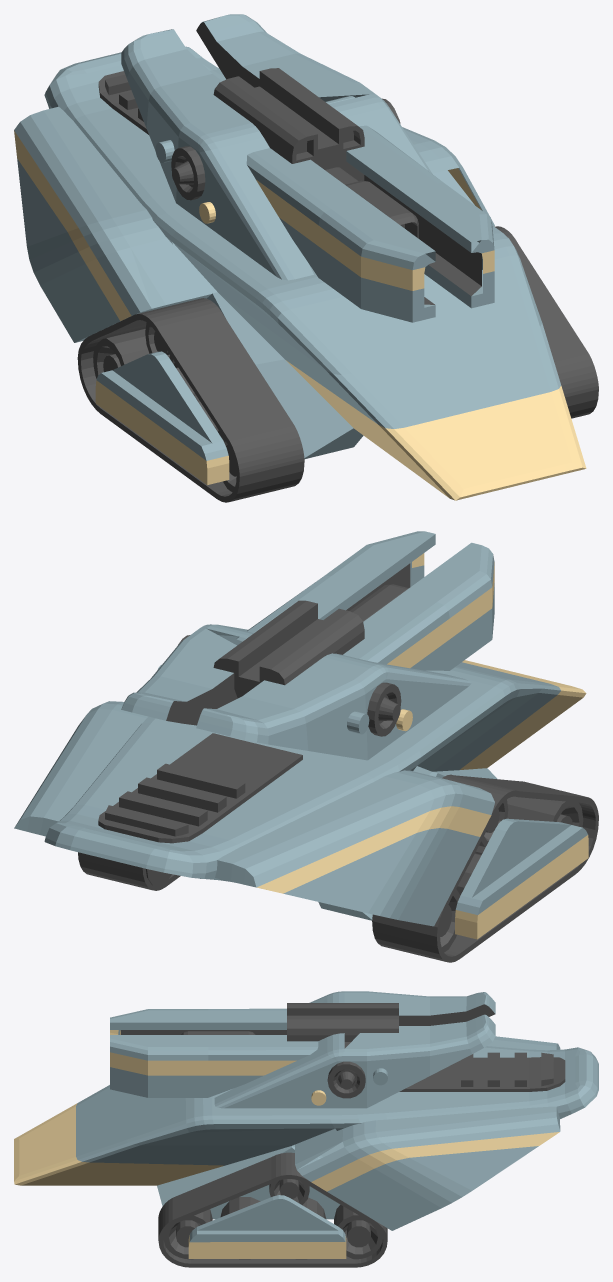
Rendered from tank.obj.
3 renders of one model, top to bottom at view 1: azimuth 30°, elevation 25°; view 2: azimuth 150°, elevation 25°; view 3: azimuth 270°, elevation 25°, orthographic. The views are drawn at different scales.
Visible parts, largest first — view 1: body, head; view 2: body, head; view 3: body, head.
Part boxes in pixels (x1,y1,x2,y2): body: (14, 46, 598, 502); head: (121, 14, 494, 322); body: (14, 660, 598, 962); head: (121, 531, 494, 760); body: (14, 1036, 598, 1267); head: (110, 991, 495, 1108).
Size of the model in its own units: 1 by 0.696 by 1.88.
